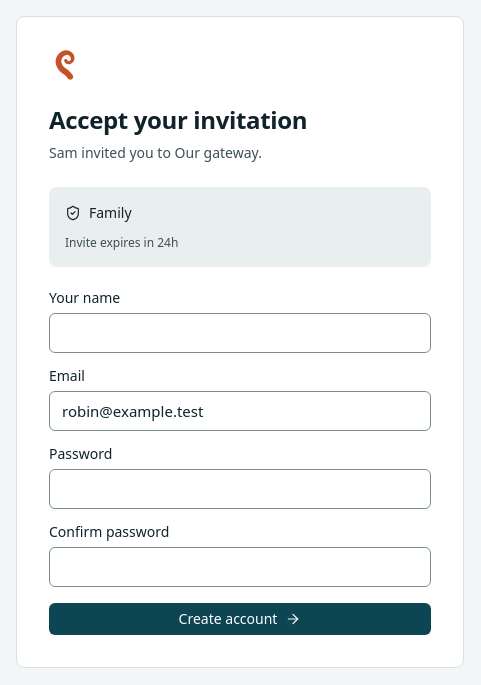
Scenario: Invite: the welcome card's line on prompts › claims nothing after prompt settings reach a terminal read error
Type "Robin" into the field labelled "Your name". click: (240,333)
box: [49,313,431,353]
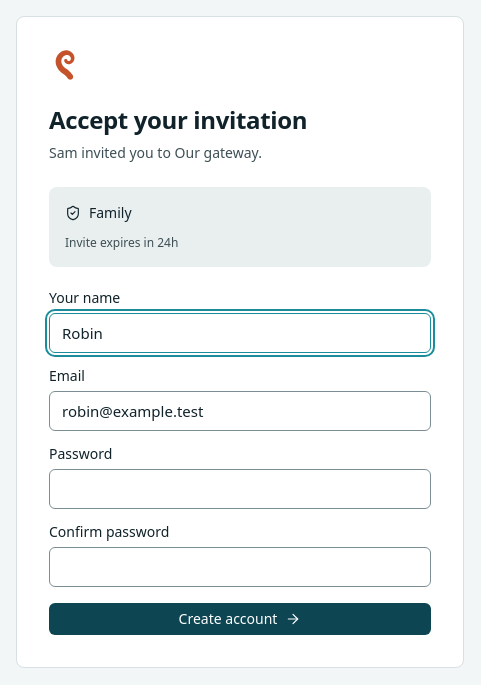
Type "long-enough-password" into the password field labelled "Password". click: (240,489)
box: [49,469,431,509]
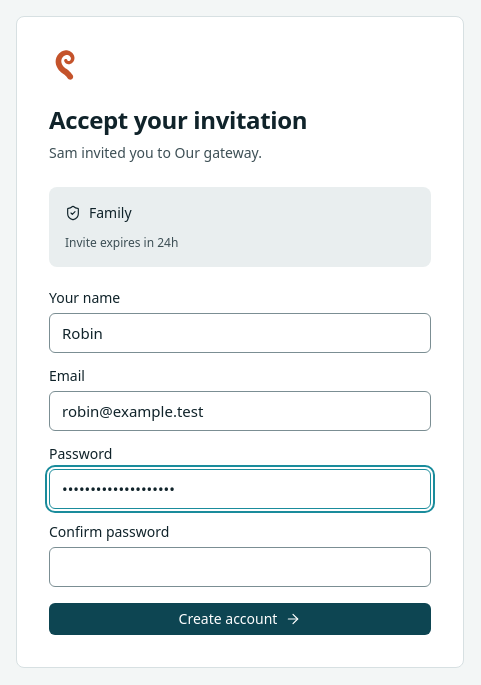
Type "long-enough-password" into the password field labelled "Confirm password". click: (240,567)
box: [49,547,431,587]
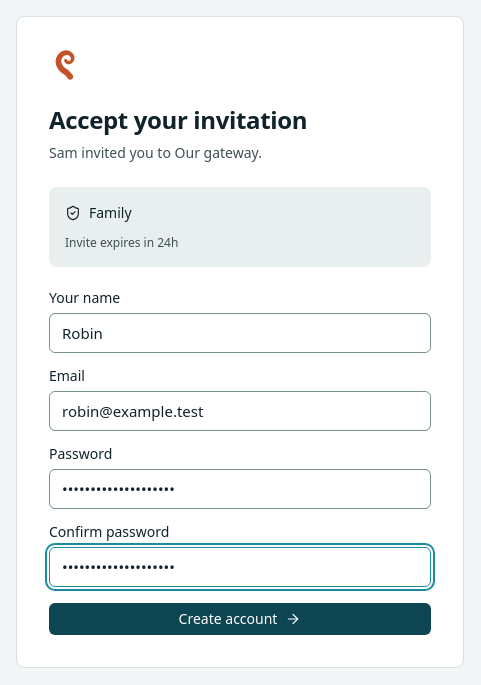
Click the button "Create account". click: (240,619)
box: [49,603,431,635]
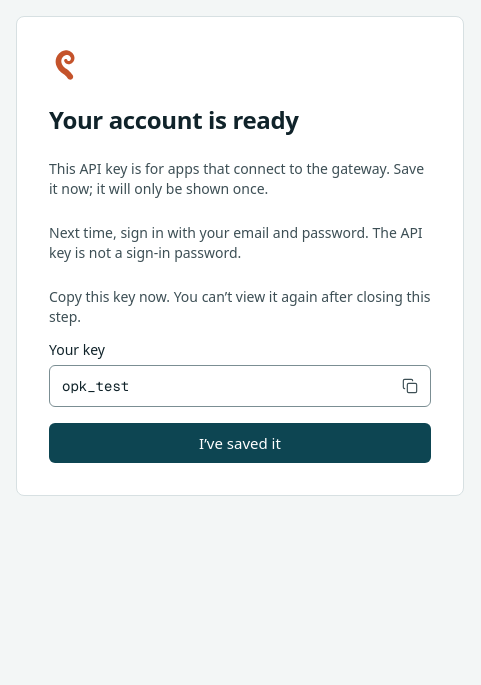
Expected: the heading "Your account is ready" is shown, [49,103,299,136]
